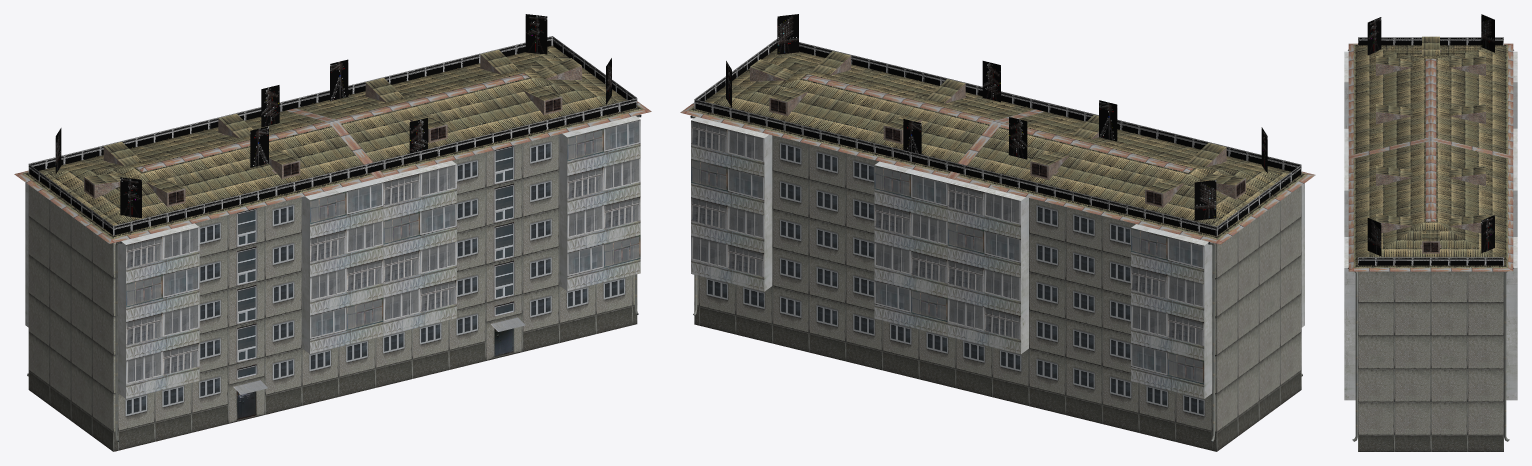
Rendered from rus_build_5et_01a.fbx.
3 views of the same model, side by side, from view 1: azimuth 30°, elevation 25°; view 2: azimuth 150°, elevation 25°; view 3: azimuth 270°, elevation 25° (orthographic). The views are drawn at different scales.
Visible parts, largest first — view 1: Regroup13, rus_build_dec_01; view 2: Regroup13, rus_build_dec_01; view 3: Regroup13, rus_build_dec_01.
Part boxes in pixels (<box>): Regroup13: <box>14,45,651,451</box>; rus_build_dec_01: <box>28,14,637,235</box>; Regroup13: <box>680,48,1315,451</box>; rus_build_dec_01: <box>694,14,1301,235</box>; Regroup13: <box>1344,36,1517,451</box>; rus_build_dec_01: <box>1358,14,1503,265</box>.
Size of the model in its own units: 4130 by 1925 by 1330.
